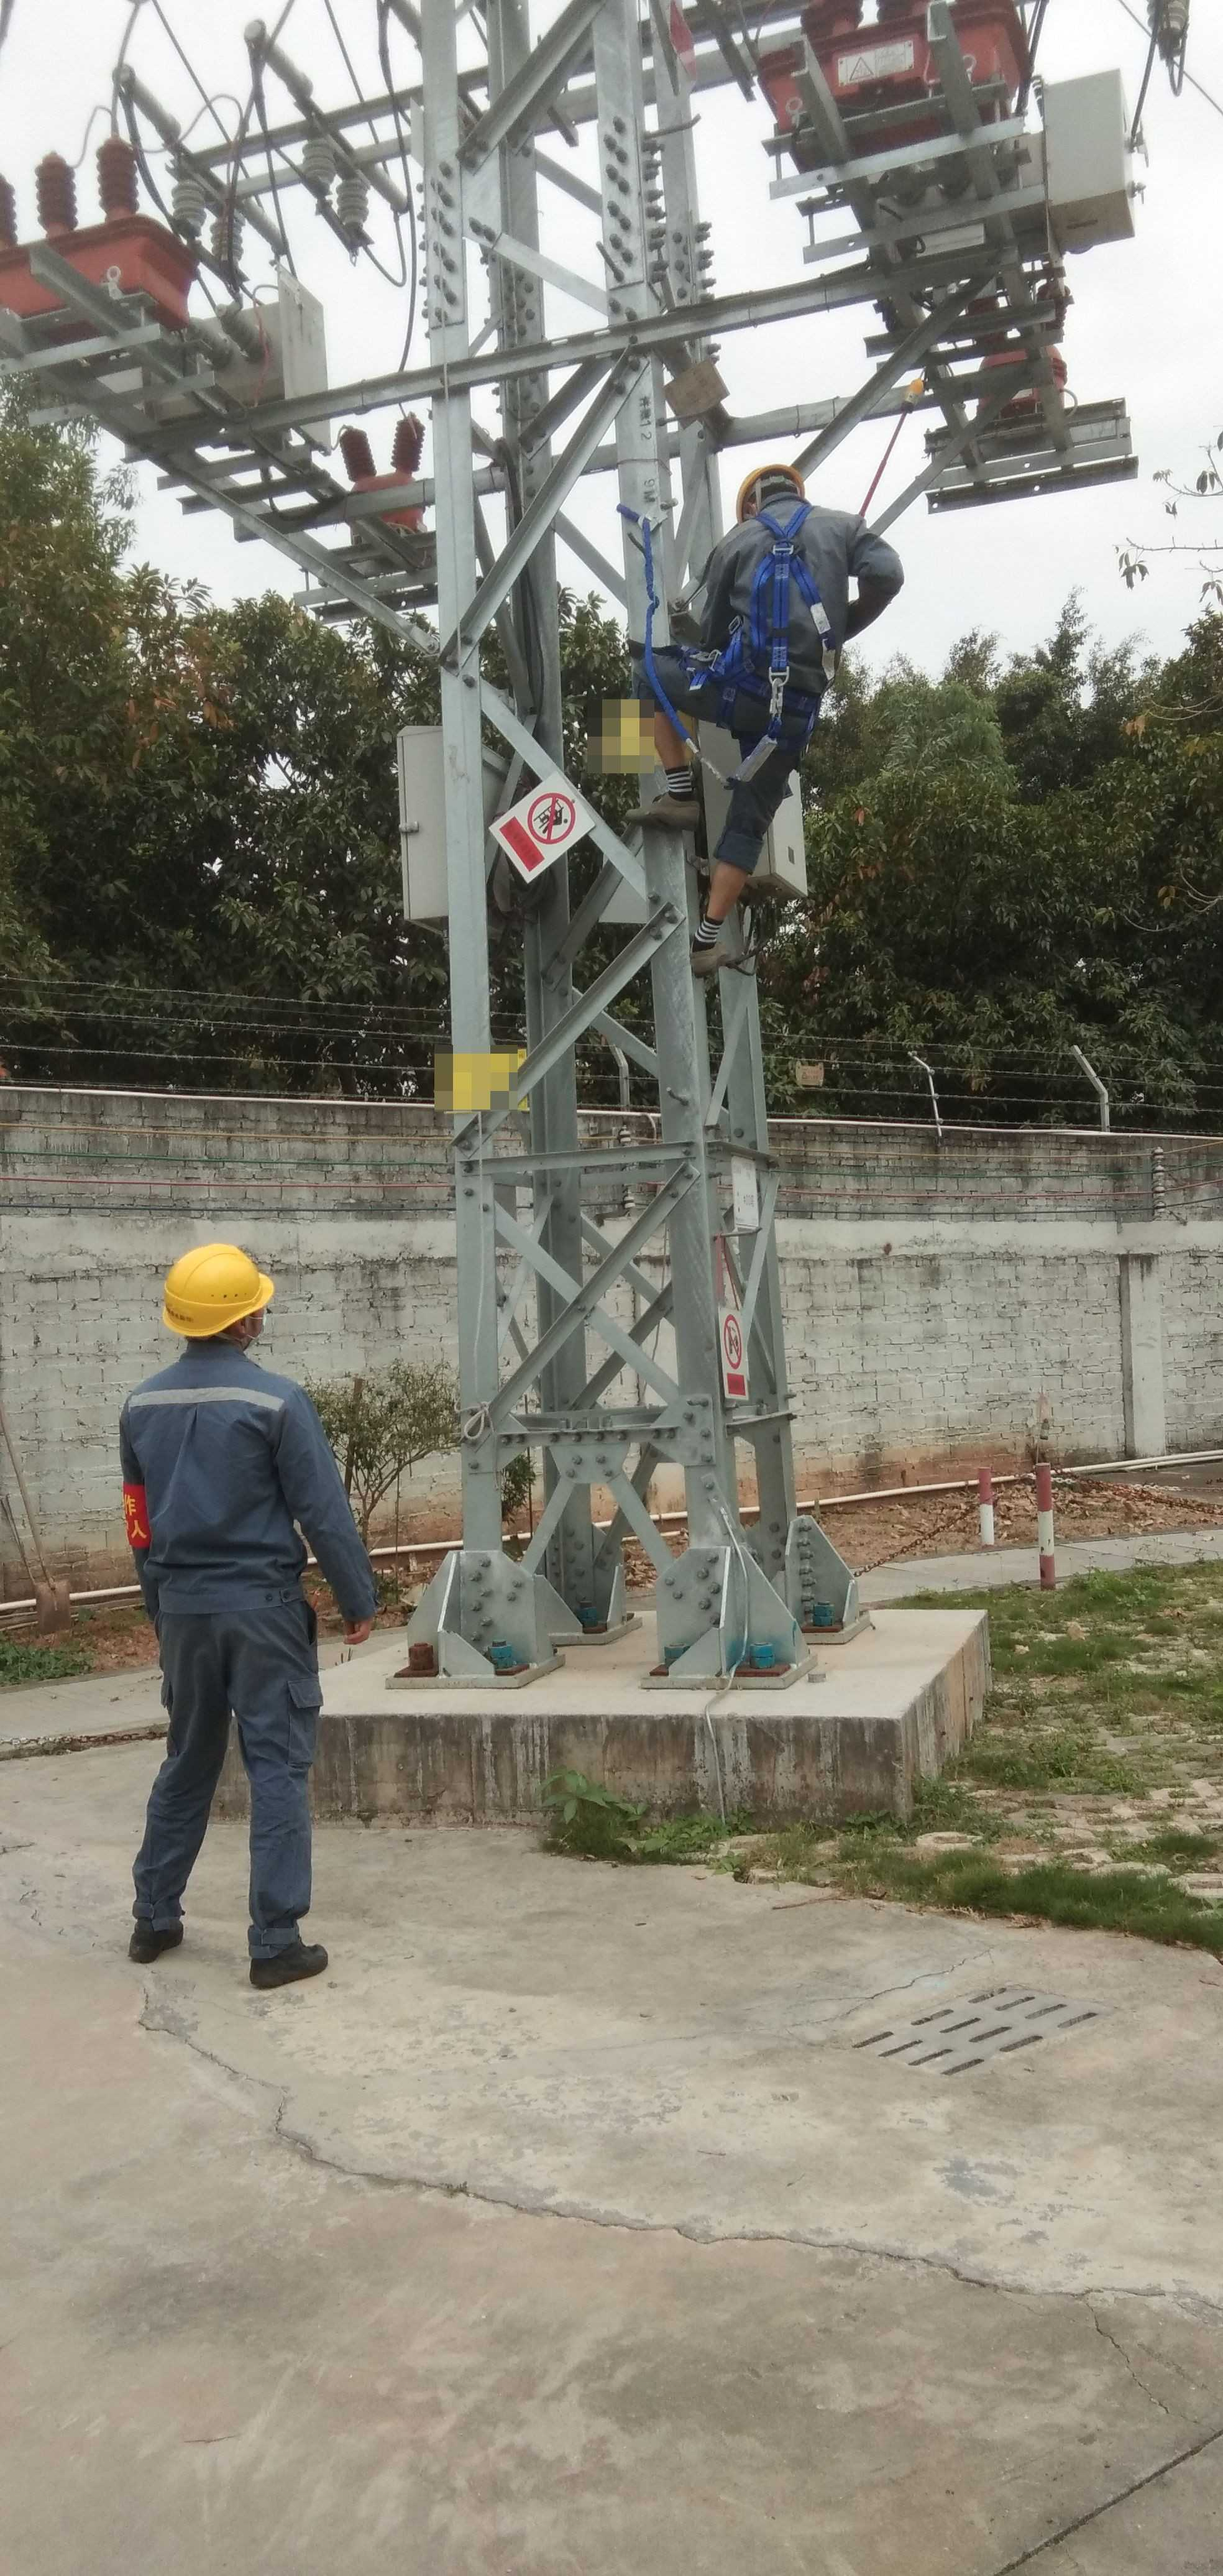downsuit: (125, 1602, 340, 1939), (673, 678, 824, 866)
upsuit: (117, 1349, 351, 1562), (704, 509, 900, 647)
wrongbottom: (632, 682, 701, 802), (698, 826, 767, 935)
